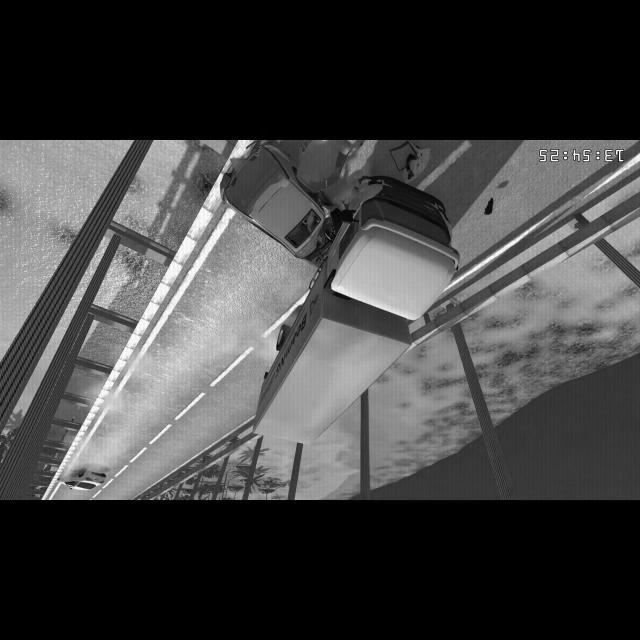severe: (218, 144, 462, 448)
